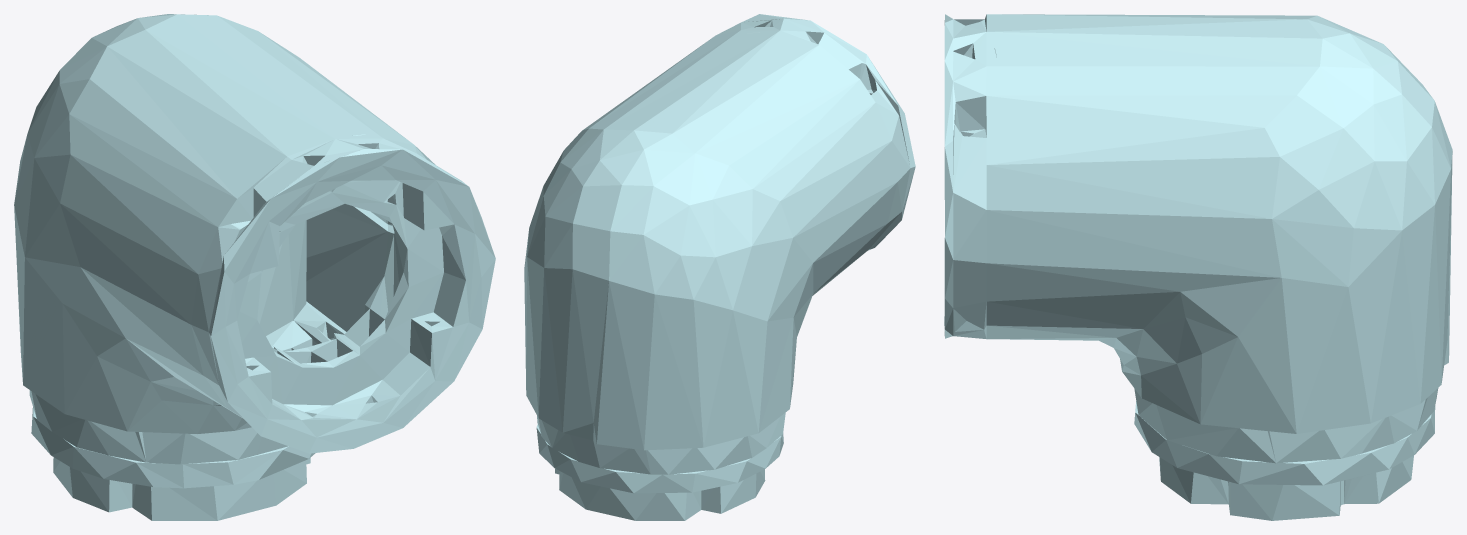
Rendered from MyCobot320Link1.dae.
3 renders of one model, left to right at view 1: azimuth 30°, elevation 25°; view 2: azimuth 150°, elevation 25°; view 3: azimuth 270°, elevation 25°, orthographic. The views are drawn at different scales.
Visible parts, largest first — view 1: MyCobot320Link1; view 2: MyCobot320Link1; view 3: MyCobot320Link1.
Boxes of the visible parts, x1=… form: MyCobot320Link1: x1=14, y1=14, x2=495, y2=520; MyCobot320Link1: x1=524, y1=14, x2=915, y2=520; MyCobot320Link1: x1=944, y1=14, x2=1452, y2=520.
Size of the model in its own units: 0.0771 by 0.1174 by 0.1114.
